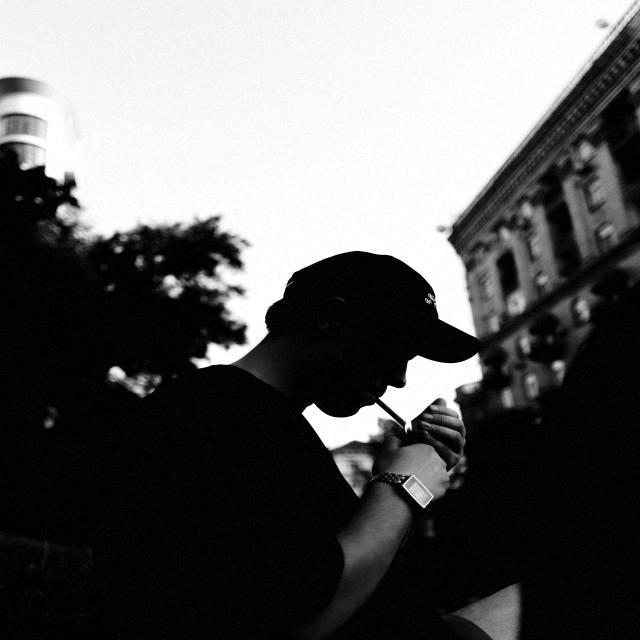no_hard_hat: (264, 251, 480, 371)
person: (132, 252, 479, 640)
